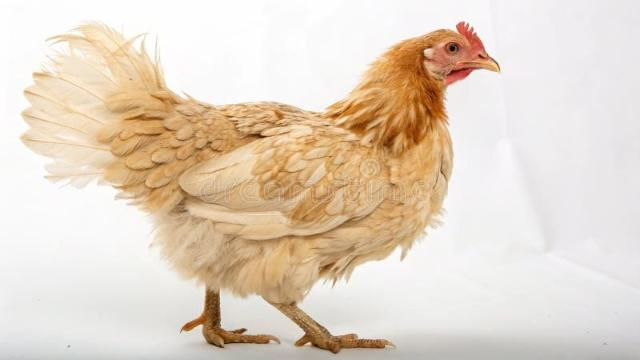Chicken: (18, 20, 503, 353)
